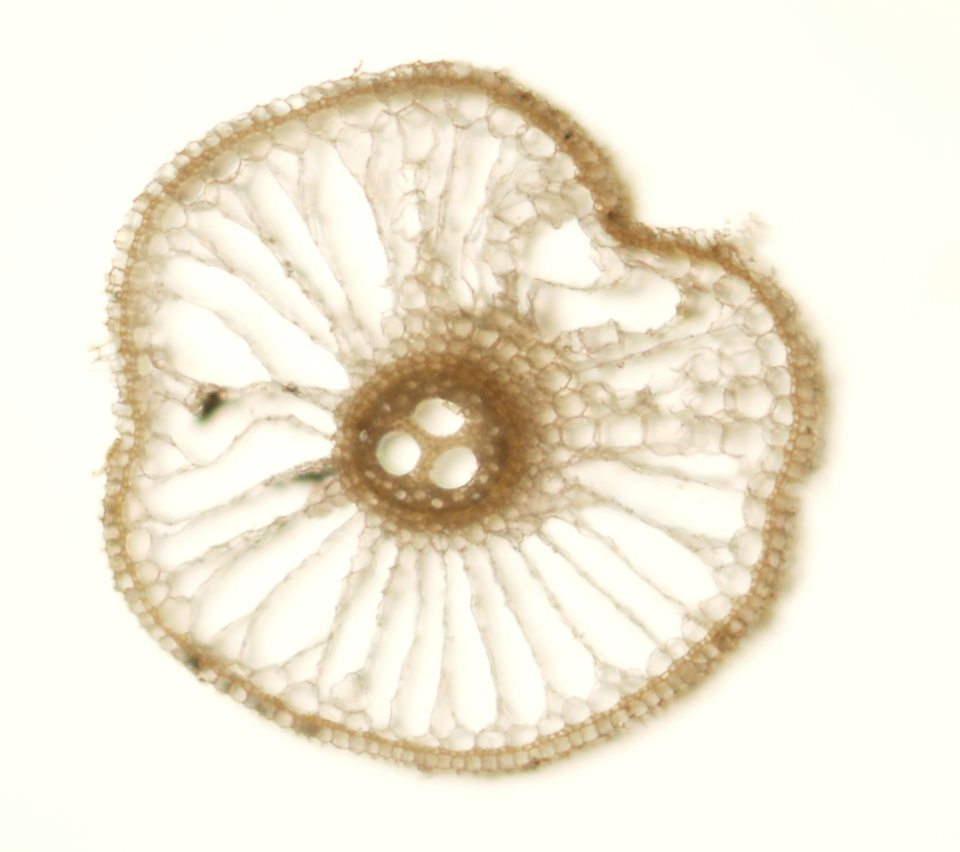lm: (429, 446, 479, 489), (376, 430, 421, 476), (413, 397, 465, 436)
